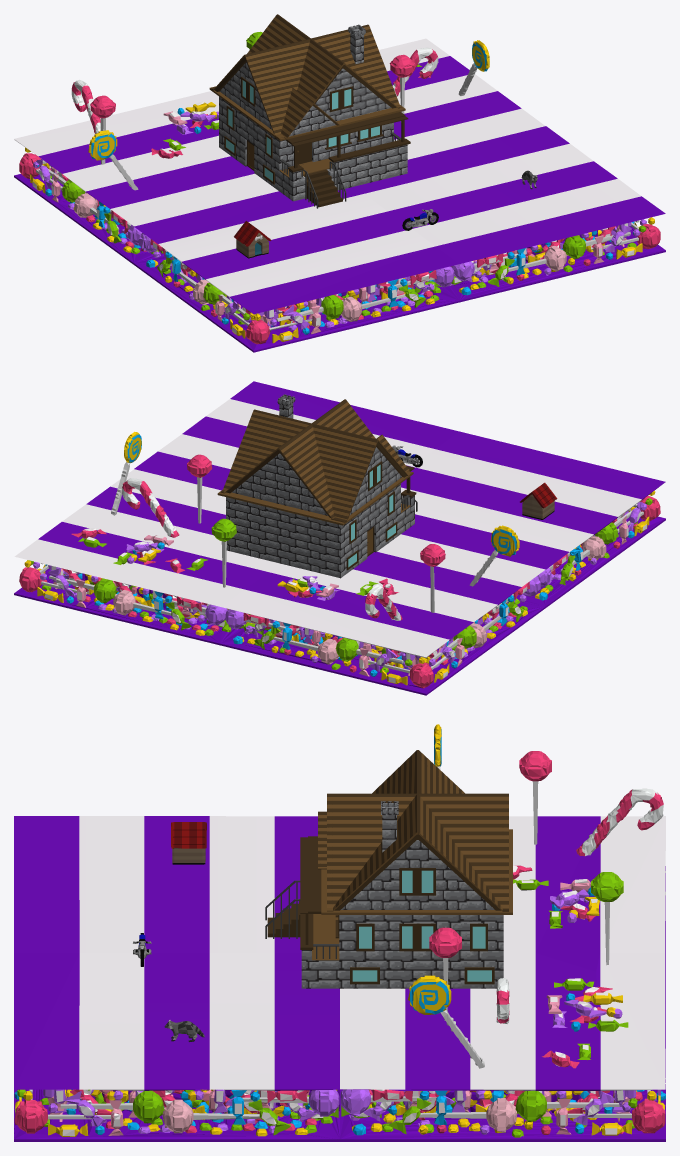
3 views of the same model, one above another, from view 1: azimuth 30°, elevation 25°; view 2: azimuth 150°, elevation 25°; view 3: azimuth 270°, elevation 25° (orthographic). The views are drawn at different scales.
Parts seen in each view (by area): view 1: TERRAIN_CANDY, Cube.586, OBJRANDOM_DOGHOUSE; view 2: TERRAIN_CANDY, Cube.586, OBJRANDOM_DOGHOUSE; view 3: TERRAIN_CANDY, Cube.586, OBJRANDOM_DOGHOUSE.
Part boxes in pixels (x1=…): TERRAIN_CANDY: x1=14, y1=31, x2=665, y2=352; Cube.586: x1=209, y1=14, x2=410, y2=208; OBJRANDOM_DOGHOUSE: x1=234, y1=221, x2=271, y2=258; TERRAIN_CANDY: x1=14, y1=381, x2=665, y2=695; Cube.586: x1=217, y1=394, x2=417, y2=578; OBJRANDOM_DOGHOUSE: x1=520, y1=482, x2=557, y2=519; TERRAIN_CANDY: x1=14, y1=724, x2=665, y2=1141; Cube.586: x1=265, y1=750, x2=512, y2=988; OBJRANDOM_DOGHOUSE: x1=171, y1=822, x2=206, y2=864.
Size of the model in its own units: 4059 by 1597 by 4000.
Materials: 24 (3 with a texture image).
